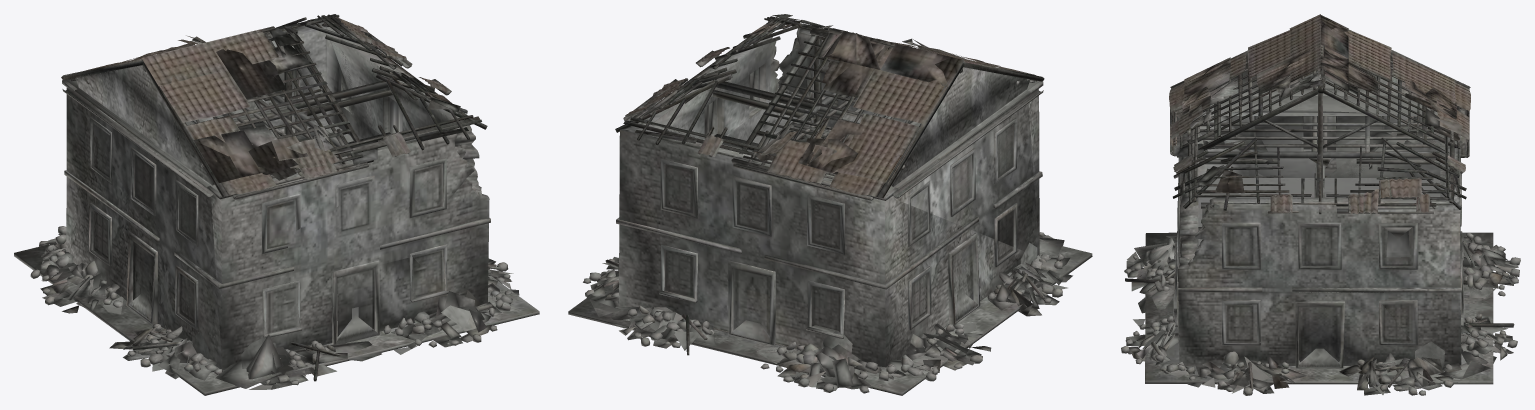
Rendered from ruin.glb.
The picture shows the model from 3 angles, left to right: view 1: azimuth 30°, elevation 25°; view 2: azimuth 150°, elevation 25°; view 3: azimuth 270°, elevation 25°; orthographic projection. The views are drawn at different scales.
Visible parts, largest first — view 1: hull; view 2: hull; view 3: hull.
Boxes of the visible parts, x1,y1,x2,y2 form: hull: (14, 14, 539, 395); hull: (568, 14, 1092, 395); hull: (1121, 14, 1520, 395).
Bounding box in the file's own units: 9.6 × 6.21 × 9.45.
1 material, 1 textured.
